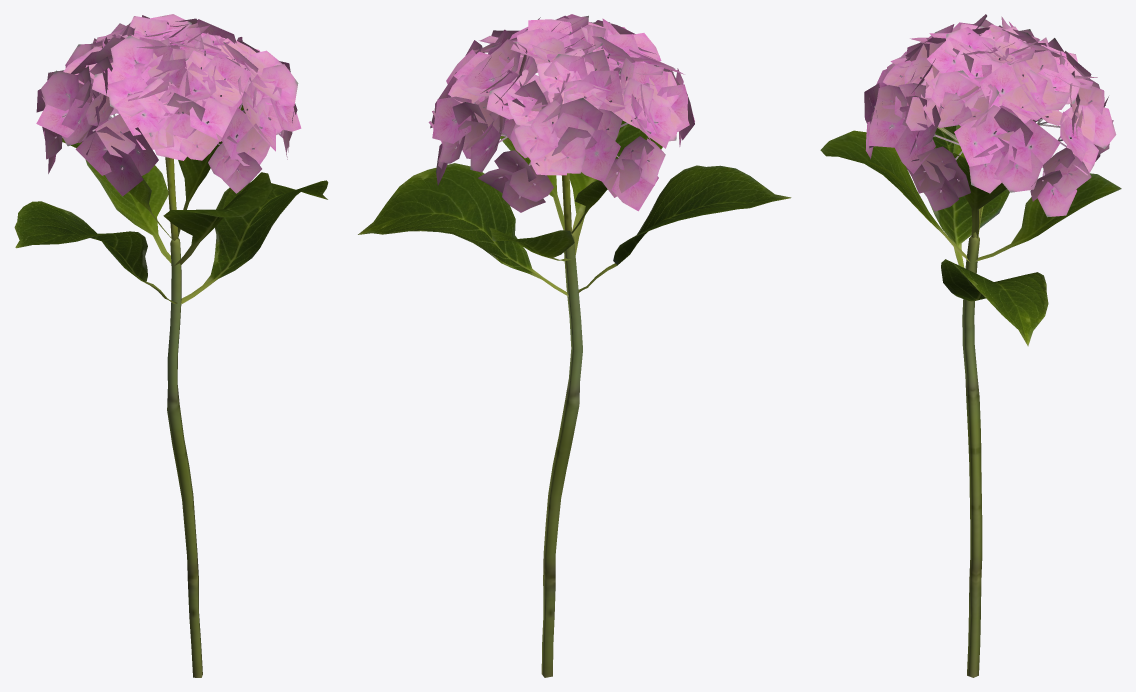
The model's file is Hydrangea OG NORMAL PINK.glb.
3 renders of one model, left to right at view 1: azimuth 30°, elevation 25°; view 2: azimuth 150°, elevation 25°; view 3: azimuth 270°, elevation 25°, orthographic. The views are drawn at different scales.
Parts seen in each view (by area): view 1: Hydrangea; view 2: Hydrangea; view 3: Hydrangea.
Boxes of the visible parts, x1,y1,x2,y2 form: Hydrangea: (14,14,328,677); Hydrangea: (358,14,791,677); Hydrangea: (820,14,1121,677).
Size of the model in its own units: 1.38 by 2.31 by 1.
Materials: 1 (1 with a texture image).
